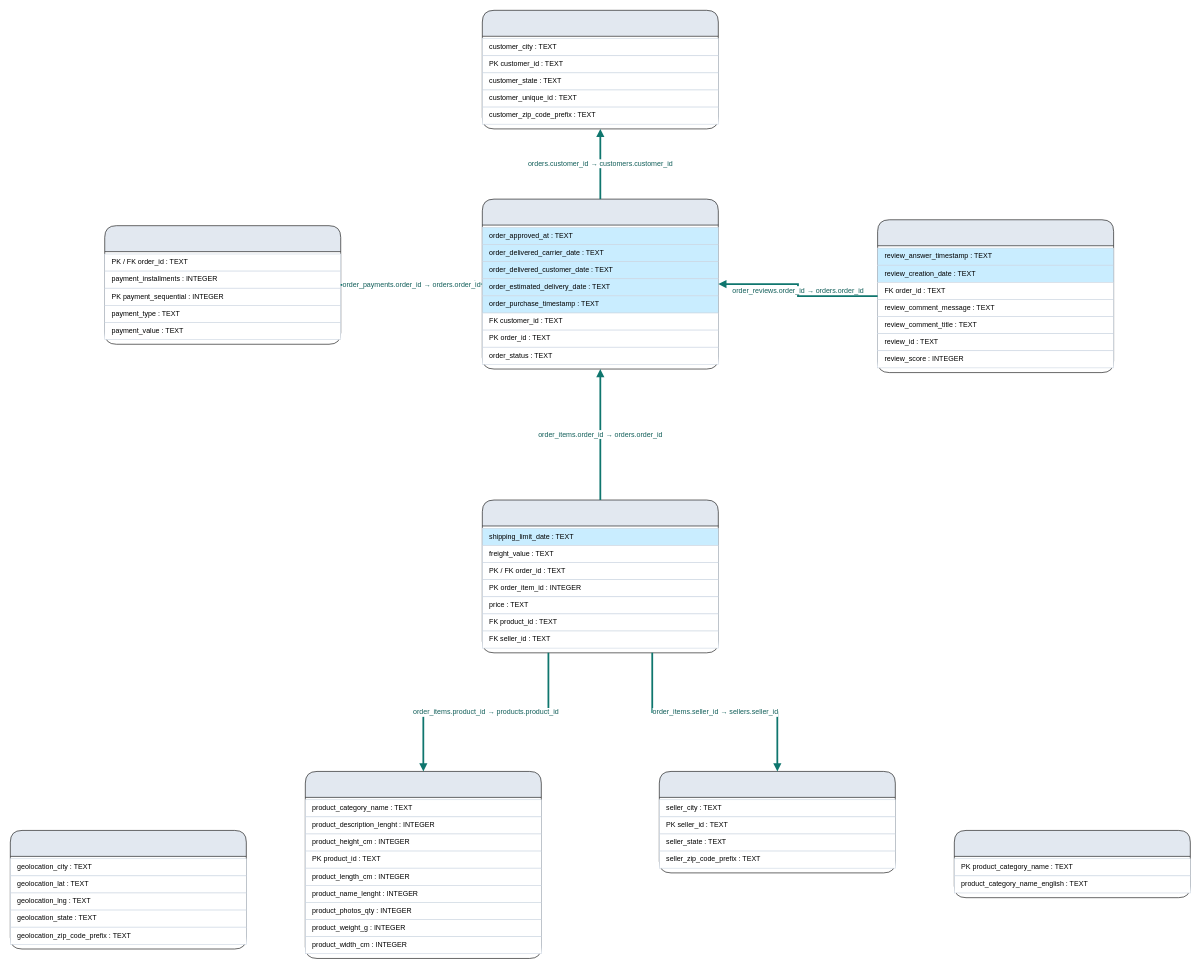
Image size: 1201x969. Some labels were removed from this diagram. Each missing label, with the box of its shape:
customers (99441 rows): (482, 10, 718, 129)
geolocation (1000163 rows): (10, 830, 246, 949)
order_items (112650 rows): (482, 499, 718, 653)
order_payments (103886 rows): (104, 225, 341, 344)
order_reviews (99224 rows): (877, 219, 1114, 373)
orders (99441 rows): (482, 199, 718, 369)
product_category_name_translation (71 rows): (954, 830, 1190, 898)
products (32951 rows): (305, 771, 541, 958)
sellers (3095 rows): (659, 771, 895, 873)
